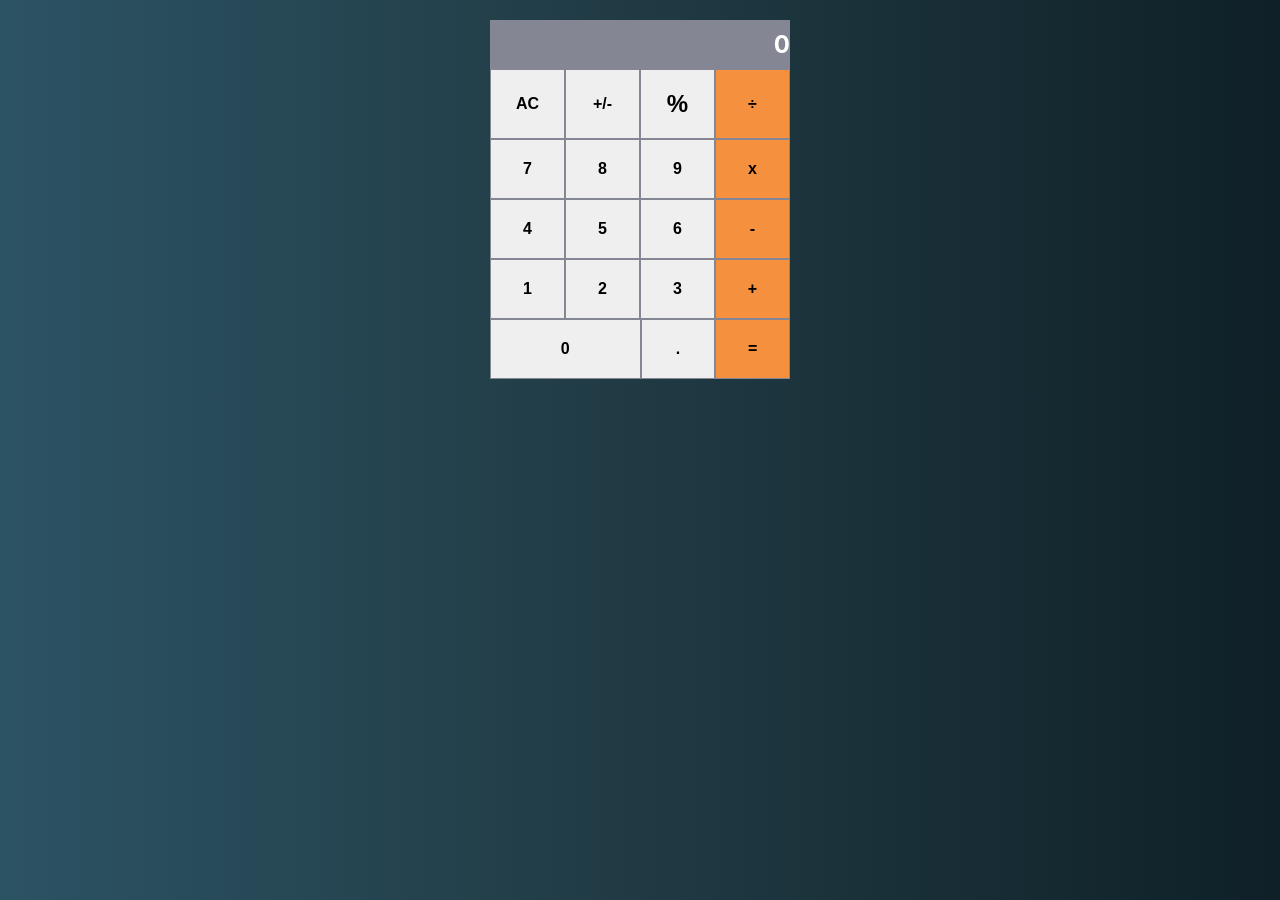
Calculator component › updates display when numbers are clicked
Click the button with test id "button-7". click: point(528, 169)
box: [490,139,565,199]
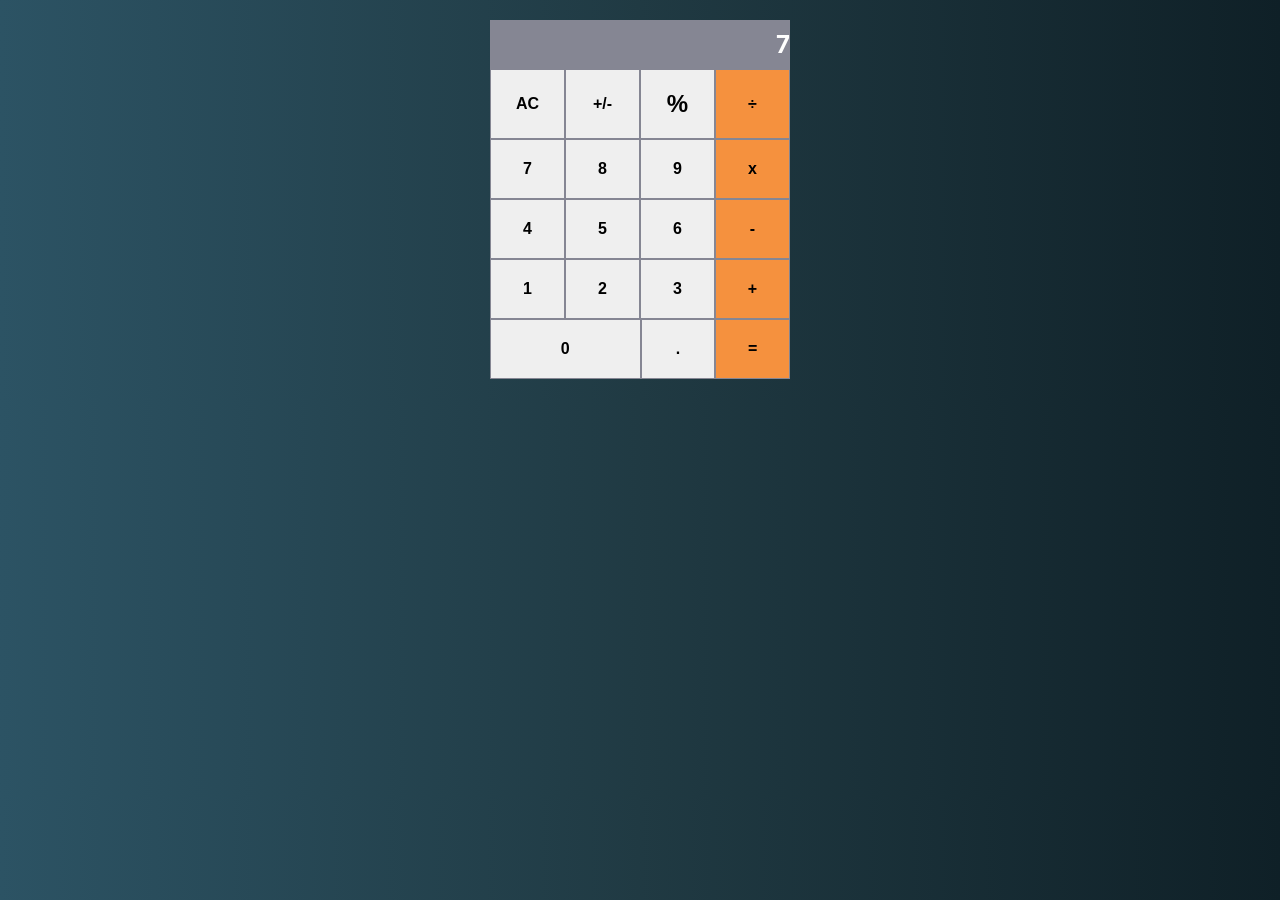
Click the button with test id "button-8". click: point(602, 169)
box: [565,139,640,199]
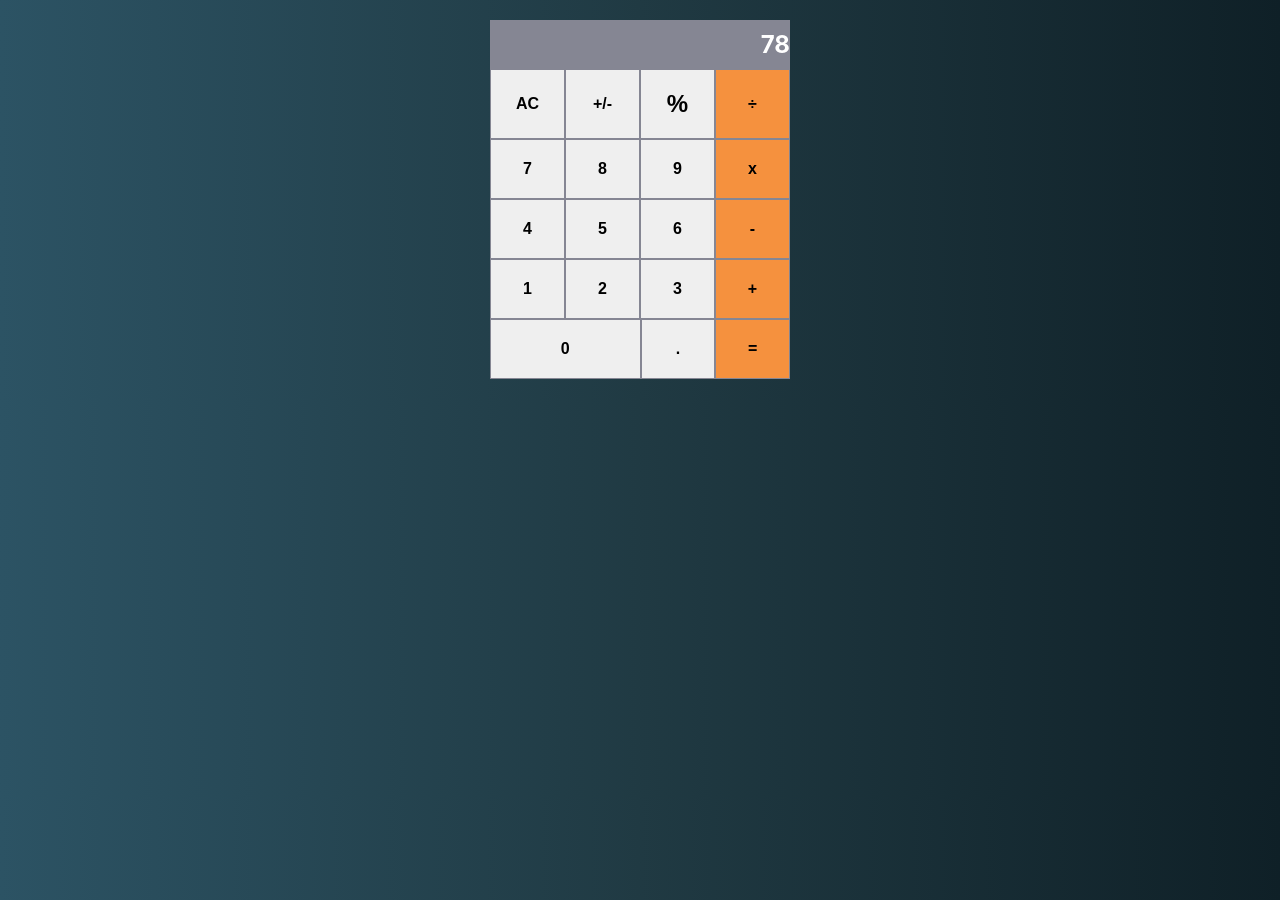
Click the button with test id "button-9". click: point(678, 169)
box: [640,139,715,199]
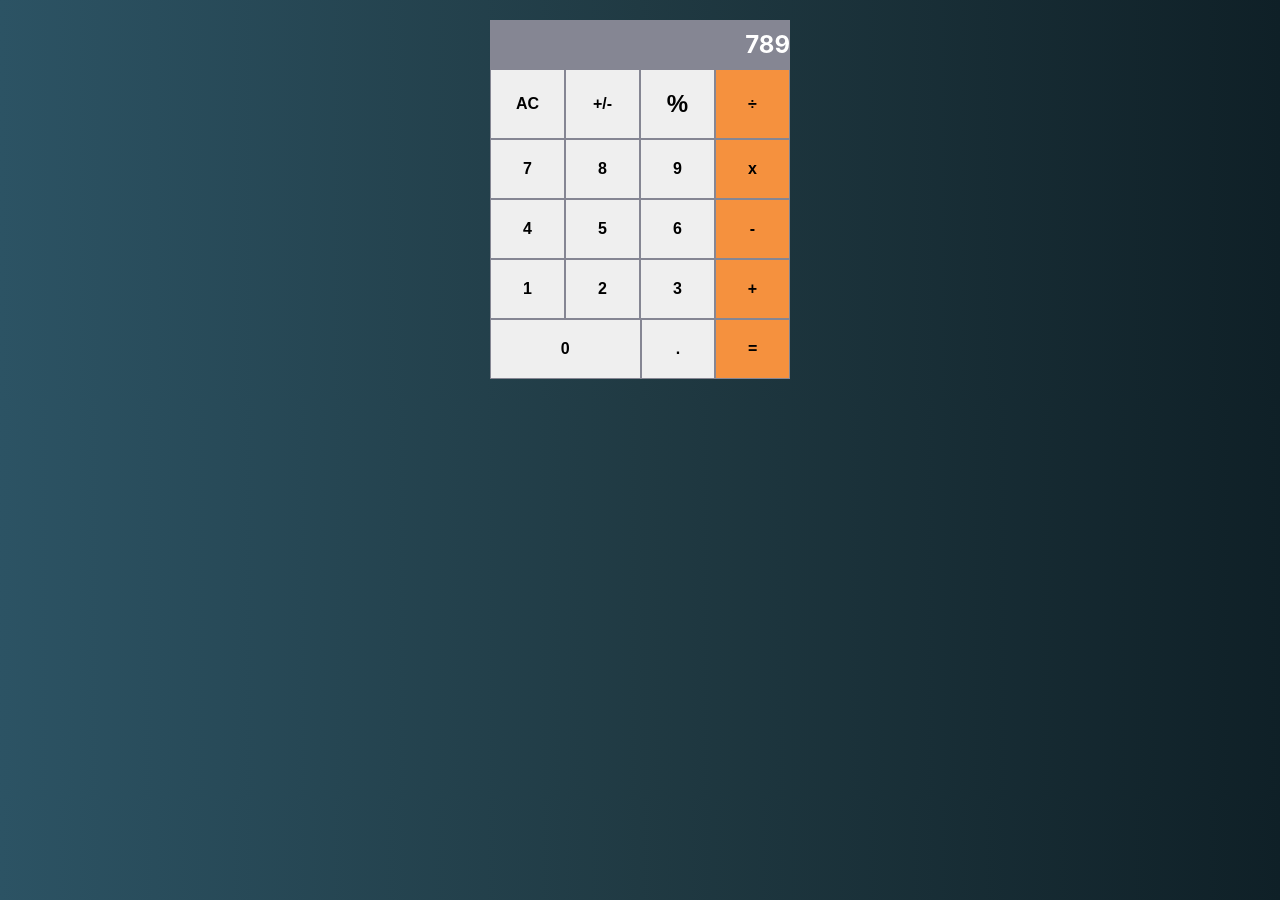
Now the text with test id "display" reads "789", box [745,30,790,59]
